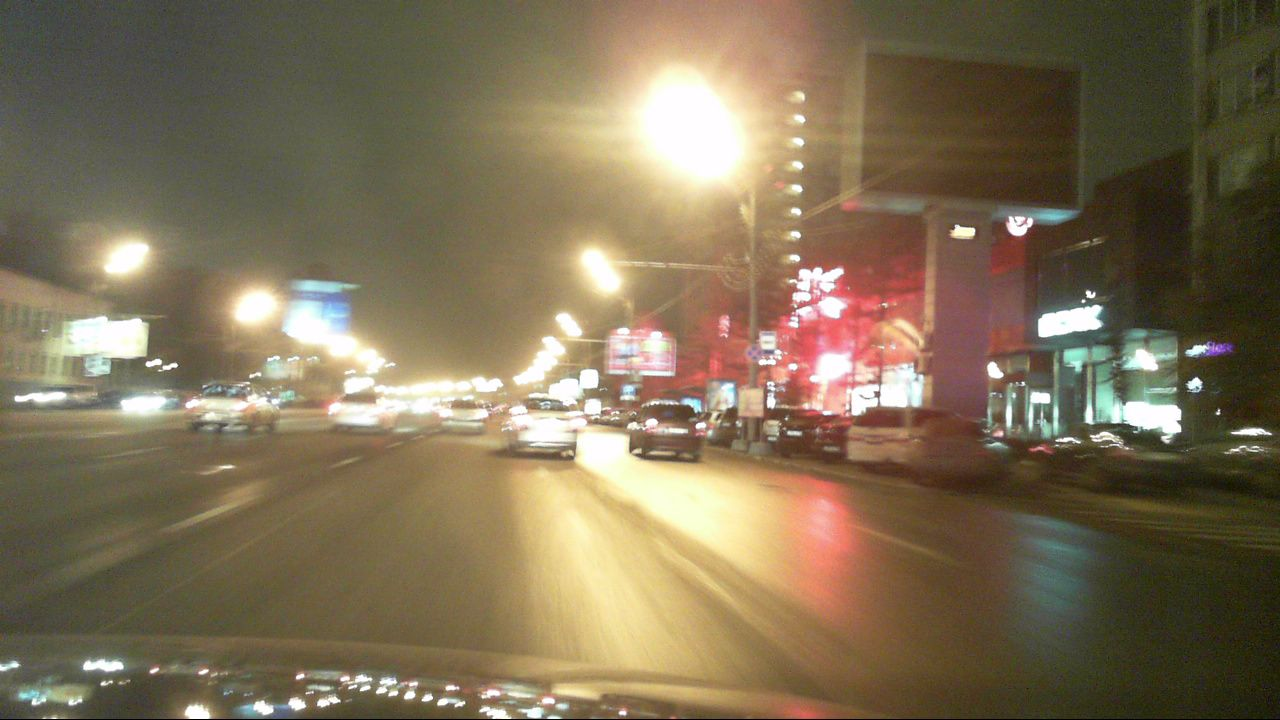No Parking: (744, 344, 762, 362)
